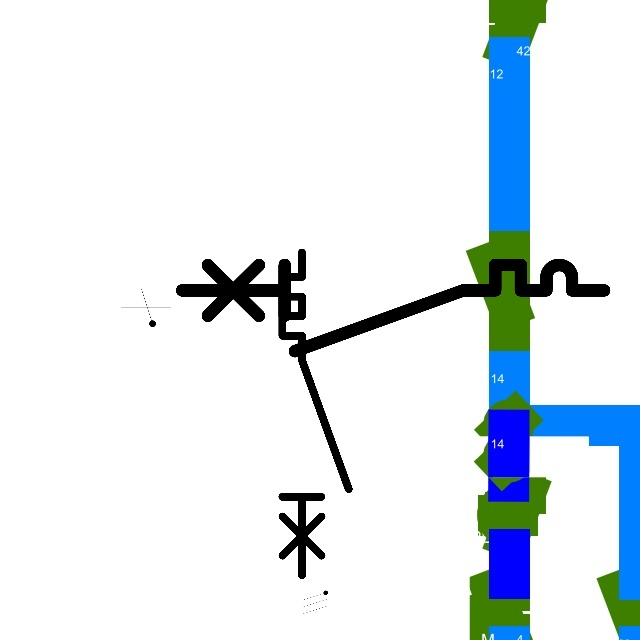interruptor_termomagnetico: (171, 254, 614, 362), (274, 244, 357, 584)
